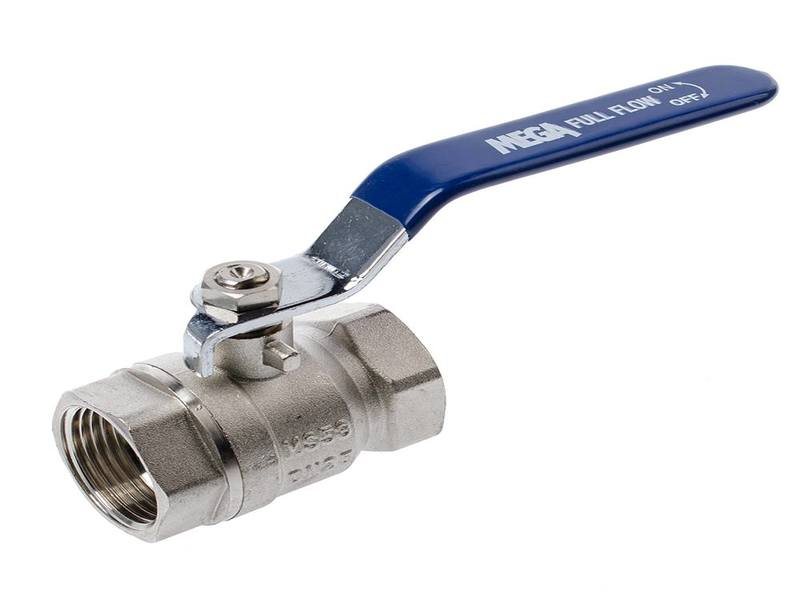valve: (17, 17, 792, 558)
